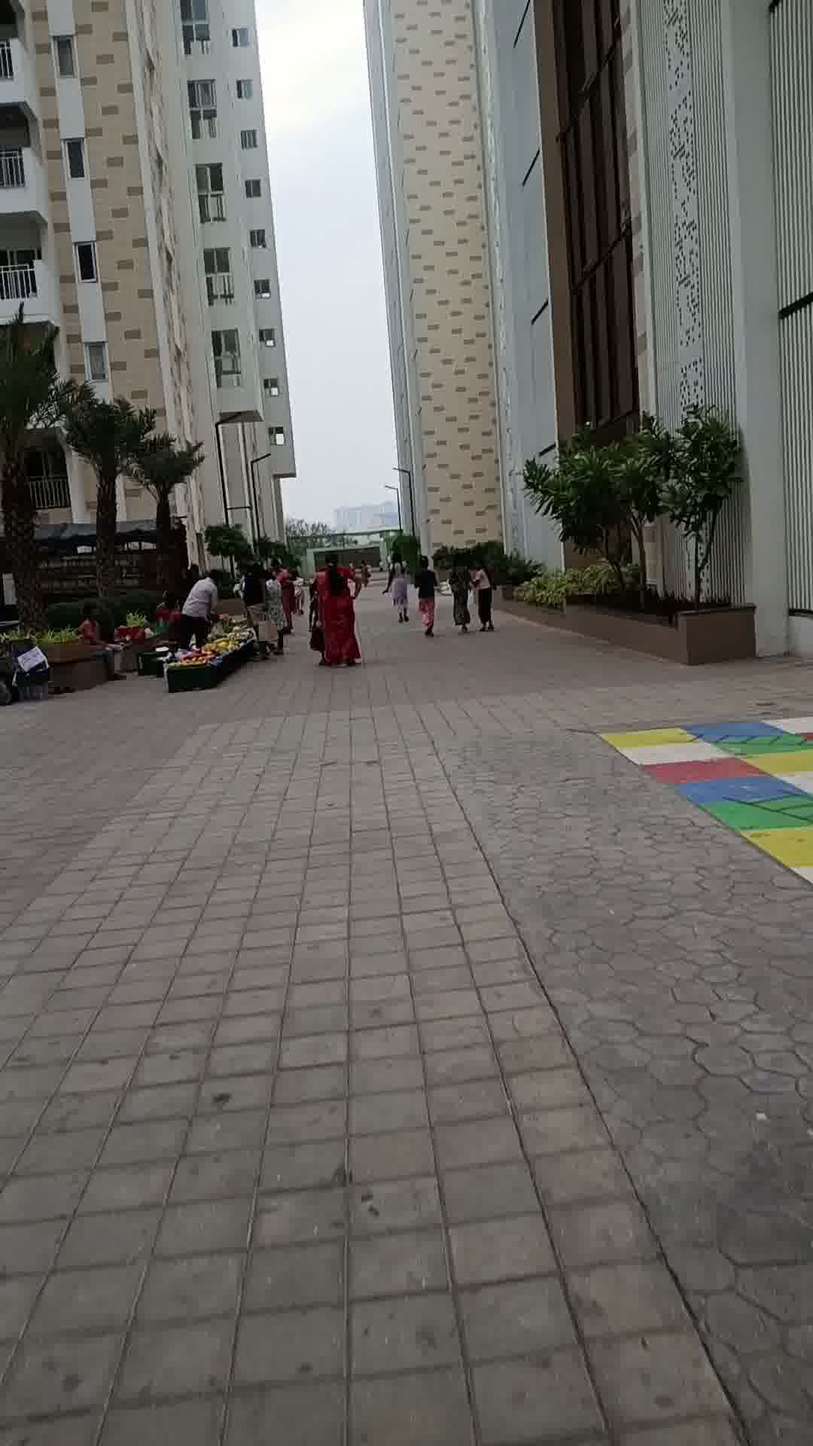person: (304, 543, 372, 674), (233, 551, 275, 668), (409, 539, 443, 649), (183, 555, 216, 653), (271, 546, 304, 642), (469, 555, 505, 638), (381, 546, 413, 635), (445, 545, 474, 638)
tree: (507, 397, 665, 618), (620, 380, 750, 638), (54, 366, 142, 649), (122, 394, 209, 669), (0, 290, 65, 646)
